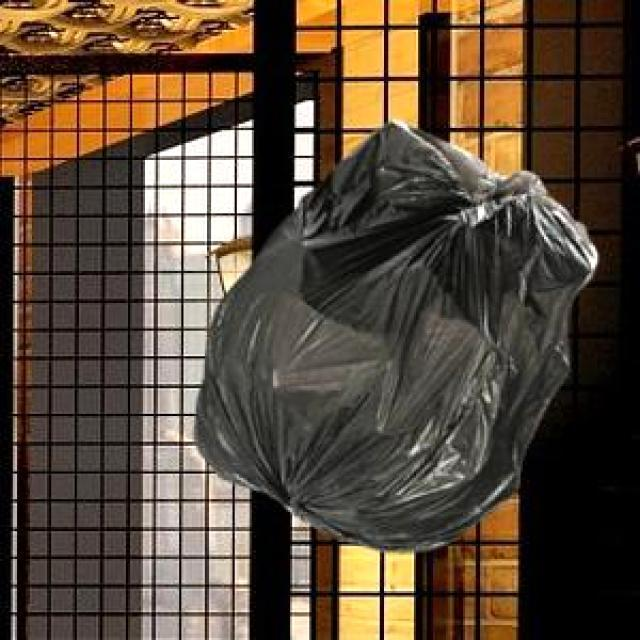Bolsa-de-nilon: (205, 137, 600, 543)
